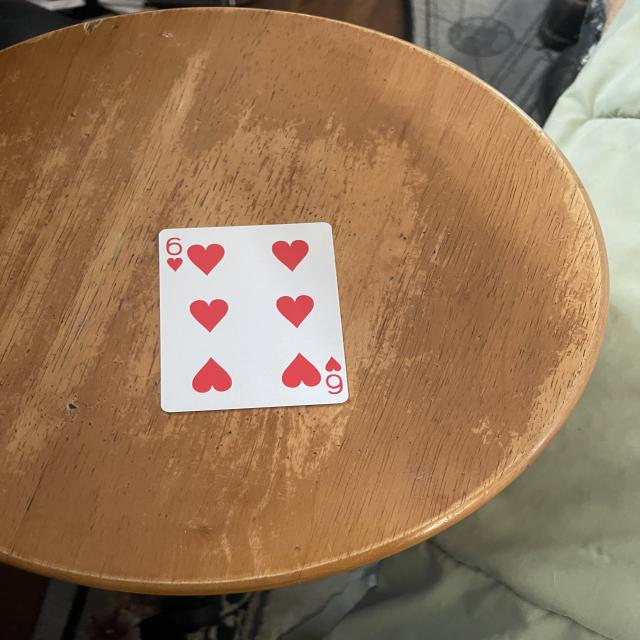6 of hearts: (159, 221, 350, 416)
